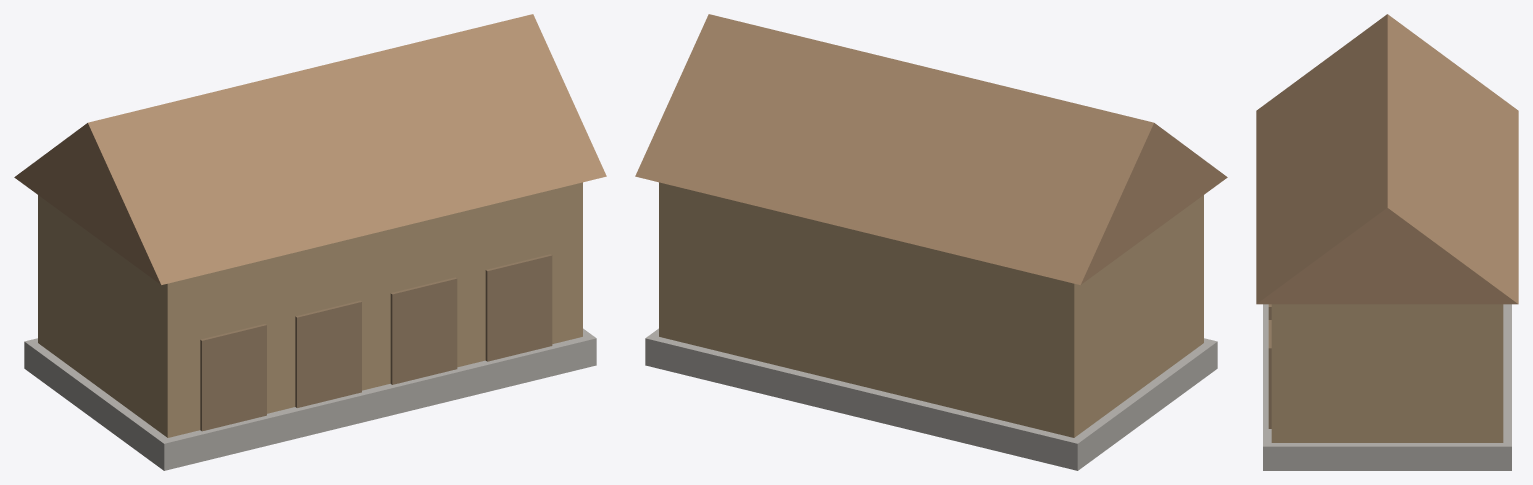
3 renders of one model, left to right at view 1: azimuth 30°, elevation 25°; view 2: azimuth 150°, elevation 25°; view 3: azimuth 270°, elevation 25°, orthographic. The views are drawn at different scales.
Visible parts, largest first — view 1: body; view 2: body; view 3: body.
Boxes of the visible parts, x1,y1,x2,y2 form: body: (14,14,606,470); body: (635,14,1227,470); body: (1256,14,1518,470).
Size of the model in its own units: 10.3 by 6.6 by 5.9.
